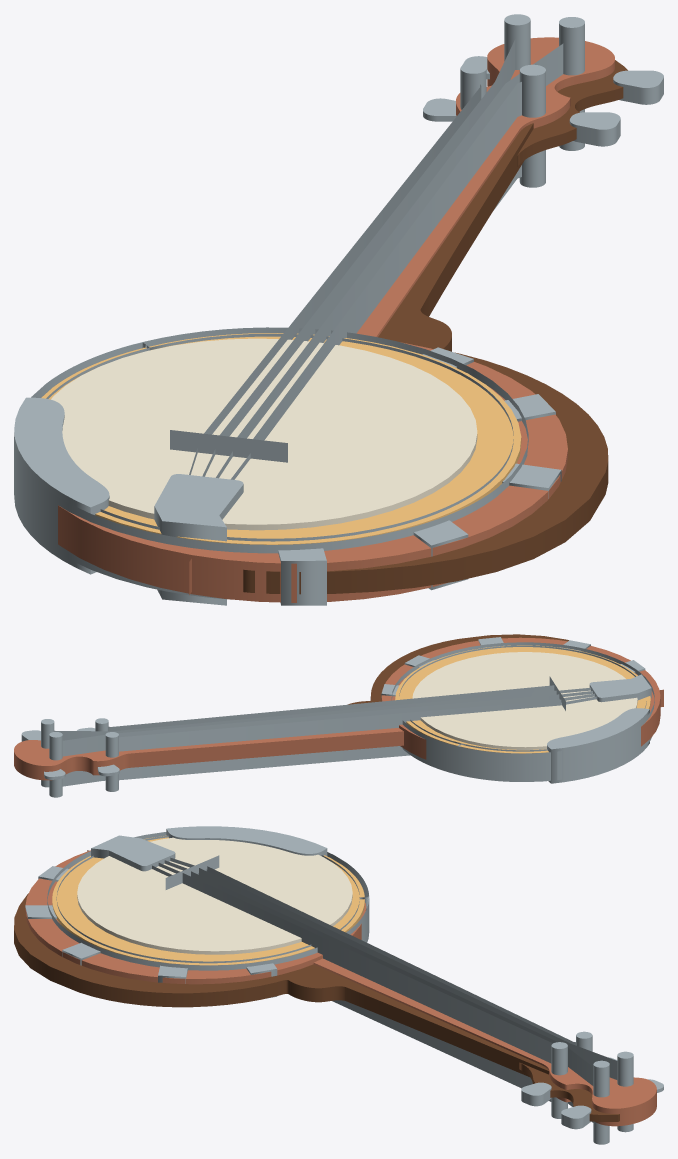
The model's file is emoji_u1fa95.glb.
3 views of the same model, one above another, from view 1: azimuth 30°, elevation 25°; view 2: azimuth 150°, elevation 25°; view 3: azimuth 270°, elevation 25° (orthographic). The views are drawn at different scales.
Visible parts, largest first — view 1: emoji_u1fa95; view 2: emoji_u1fa95; view 3: emoji_u1fa95.
Boxes of the visible parts, left/top/right/bottom form: emoji_u1fa95: left=14, top=14, right=663, bottom=605; emoji_u1fa95: left=14, top=634, right=663, bottom=797; emoji_u1fa95: left=14, top=826, right=663, bottom=1144.
Bounding box in the file's own units: 0.0339 × 0.0044 × 0.0336.
